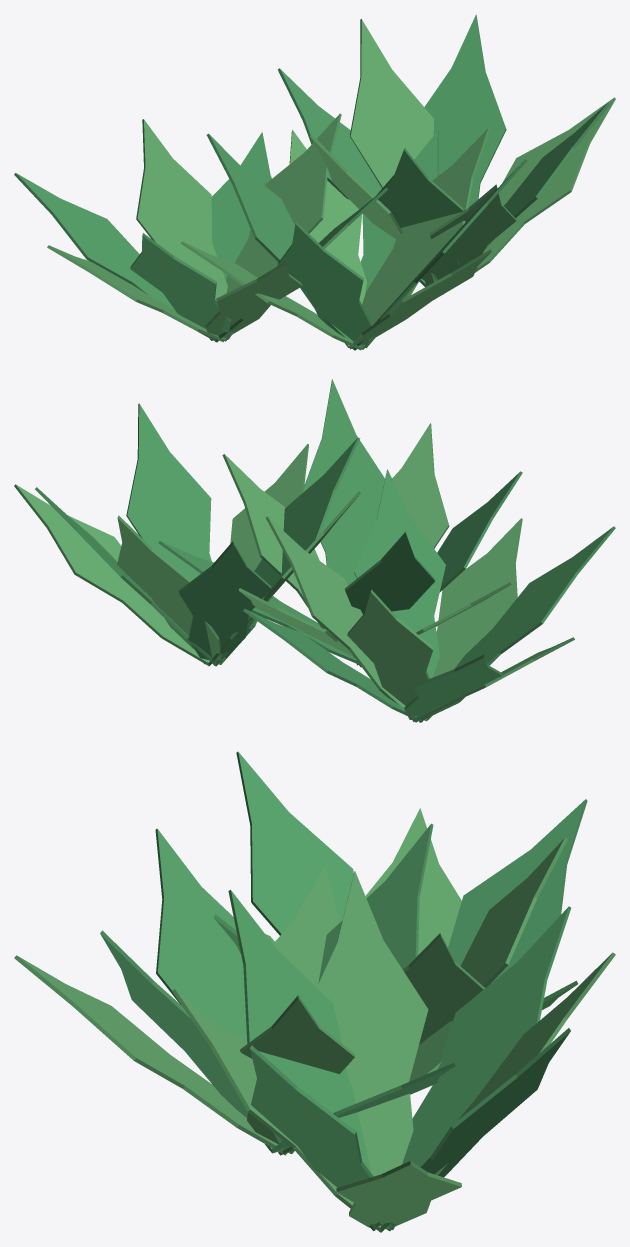
File: sm_env_forest_tall_fern_cluster.glb
3 renders of one model, top to bottom at view 1: azimuth 30°, elevation 25°; view 2: azimuth 150°, elevation 25°; view 3: azimuth 270°, elevation 25°, orthographic. The views are drawn at different scales.
Visible parts, largest first — view 1: TallFern.010, TallFern.018, TallFern.009, TallFern, TallFern.005, TallFern.016, TallFern.019, TallFern.008, TallFern.021, TallFern.003, TallFern.013, TallFern.014 (+12 smaller); view 2: TallFern.015, TallFern.007, TallFern.022, TallFern.011, TallFern.008, TallFern.023, TallFern.018, TallFern.016, TallFern.021, TallFern.010, TallFern.003, TallFern.013 (+11 smaller); view 3: TallFern.012, TallFern.011, TallFern.005, TallFern.021, TallFern.013, TallFern.015, TallFern.019, TallFern.006, TallFern.003, TallFern.007, TallFern.018, TallFern.008 (+9 smaller).
Part boxes in pixels (<box>): TallFern.010: <box>350,19,433,188</box>; TallFern.018: <box>136,119,227,340</box>; TallFern.009: <box>424,14,506,207</box>; TallFern: <box>359,128,489,349</box>; TallFern.005: <box>277,221,372,348</box>; TallFern.016: <box>222,113,341,341</box>; TallFern.019: <box>14,173,218,342</box>; TallFern.008: <box>443,97,615,294</box>; TallFern.021: <box>130,233,231,339</box>; TallFern.003: <box>206,133,356,350</box>; TallFern.013: <box>376,148,463,280</box>; TallFern.014: <box>423,184,516,286</box>; TallFern.015: <box>126,403,211,664</box>; TallFern.007: <box>303,379,384,664</box>; TallFern.022: <box>424,518,522,721</box>; TallFern.011: <box>178,541,271,659</box>; TallFern.008: <box>14,484,209,665</box>; TallFern.023: <box>354,469,445,678</box>; TallFern.018: <box>347,589,433,718</box>; TallFern.016: <box>266,516,417,722</box>; TallFern.021: <box>419,526,615,722</box>; TallFern.010: <box>117,515,222,664</box>; TallFern.003: <box>345,532,435,665</box>; TallFern.013: <box>212,437,360,666</box>; TallFern.012: <box>317,871,428,1227</box>; TallFern.011: <box>385,906,571,1231</box>; TallFern.005: <box>155,828,272,1152</box>; TallFern.021: <box>236,751,353,935</box>; TallFern.013: <box>228,890,376,1230</box>; TallFern.015: <box>250,1045,394,1229</box>; TallFern.019: <box>448,799,587,983</box>; TallFern.006: <box>14,955,287,1155</box>; TallFern.003: <box>288,823,433,1153</box>; TallFern.007: <box>100,930,292,1153</box>; TallFern.018: <box>461,838,567,987</box>; TallFern.008: <box>336,1161,461,1227</box>.
Size of the model in its own units: 2.66 by 0.9546 by 1.82.
